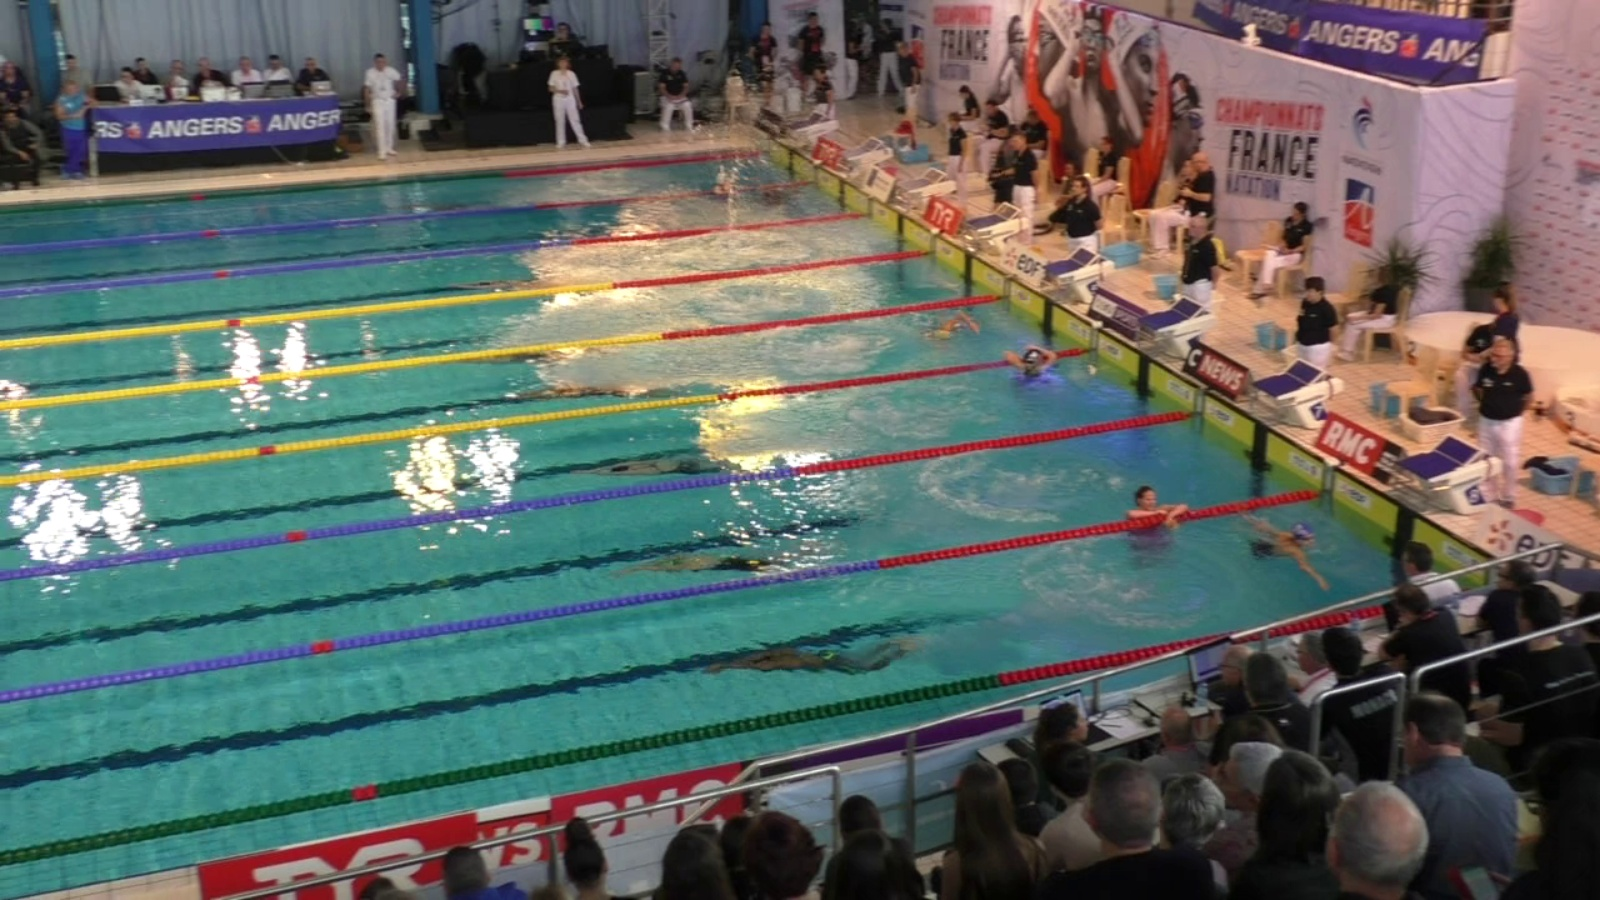swimmerwdd: (705, 638, 916, 681), (1247, 511, 1333, 592), (1123, 485, 1193, 577), (501, 379, 695, 407), (999, 341, 1075, 409), (615, 552, 795, 577), (590, 460, 758, 481), (925, 311, 987, 360), (467, 344, 593, 367), (459, 275, 595, 292), (710, 171, 753, 213), (413, 201, 567, 211)
